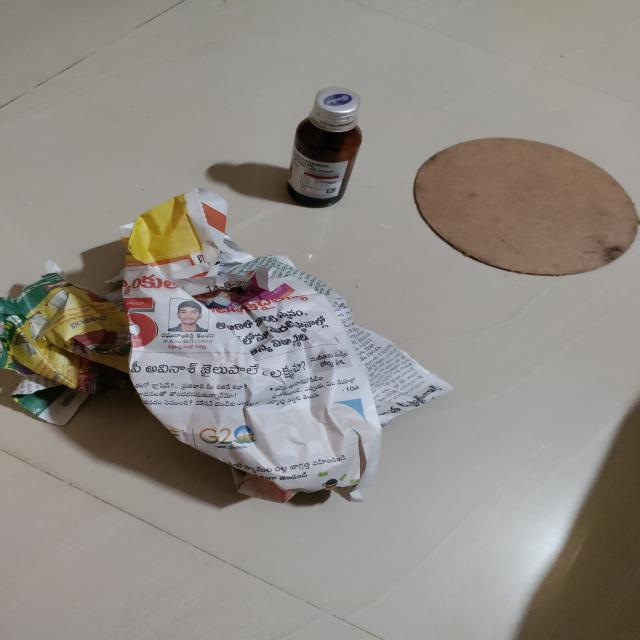dry: (0, 189, 417, 518), (413, 119, 640, 304), (270, 80, 382, 208)
